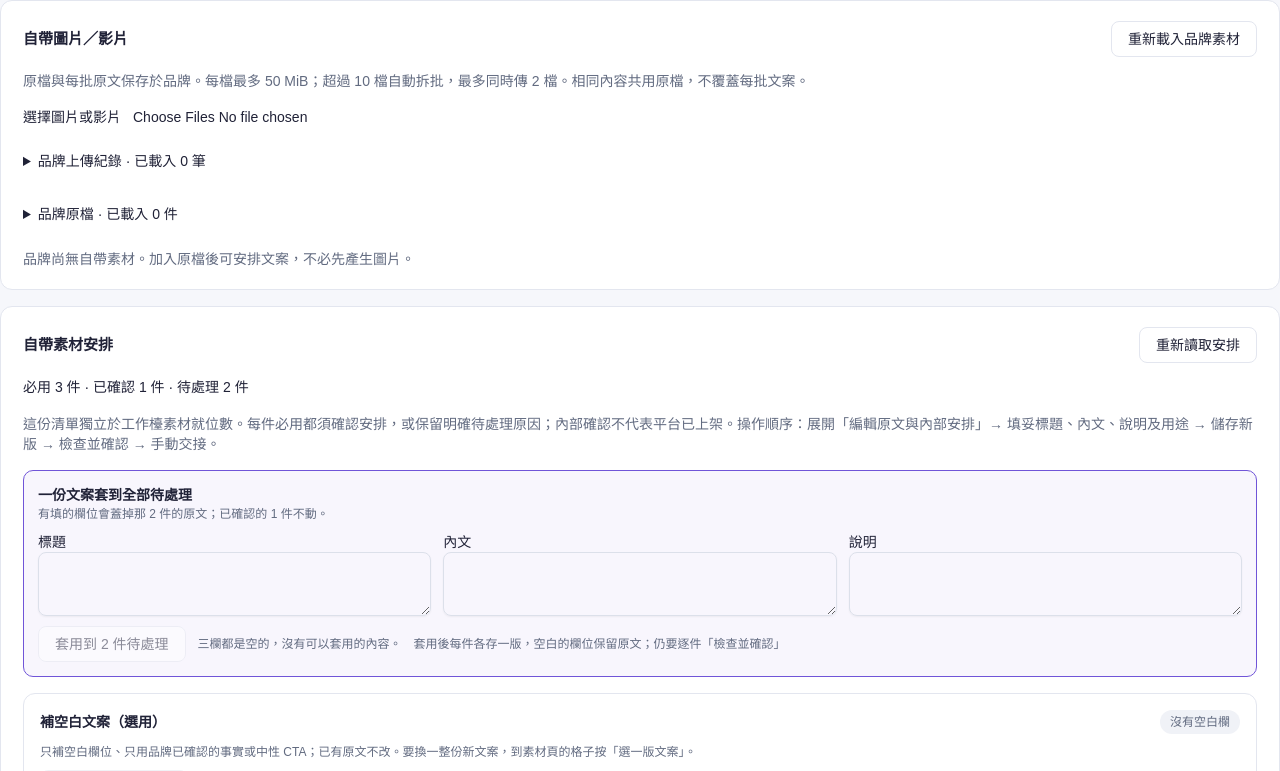
placement and evidence UI › applies one copy to every unconfirmed placement, never to a confirmed one, and reports the count
Check: the text "有填的欄位會蓋掉那 2 件的原文；已確認的 1 件不動。" is shown, box [38,507,329,521]
Check: the button "套用到 2 件待處理" is disabled, box [38,626,186,662]
In the text box named "套用標題": (235, 584) [38,552,431,616], type "統一標題"
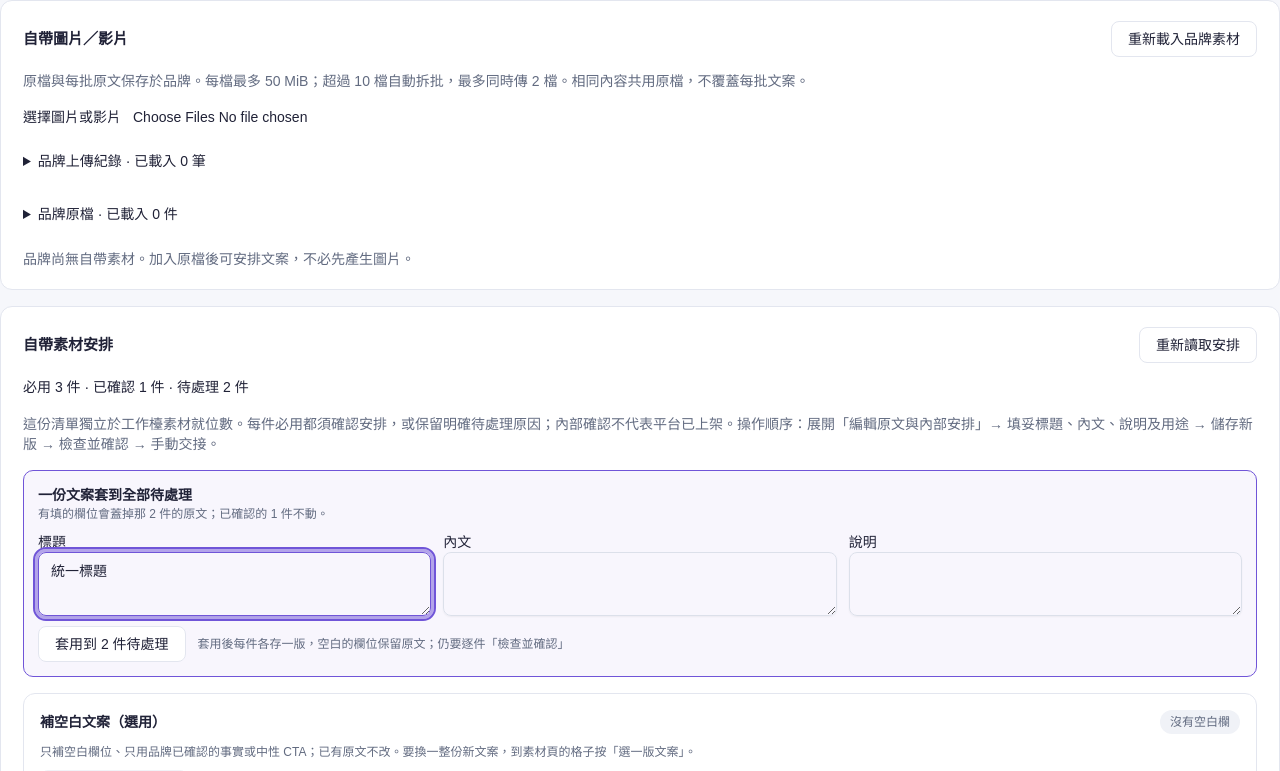
Click the button "套用到 2 件待處理": (112, 644) [38,626,186,662]
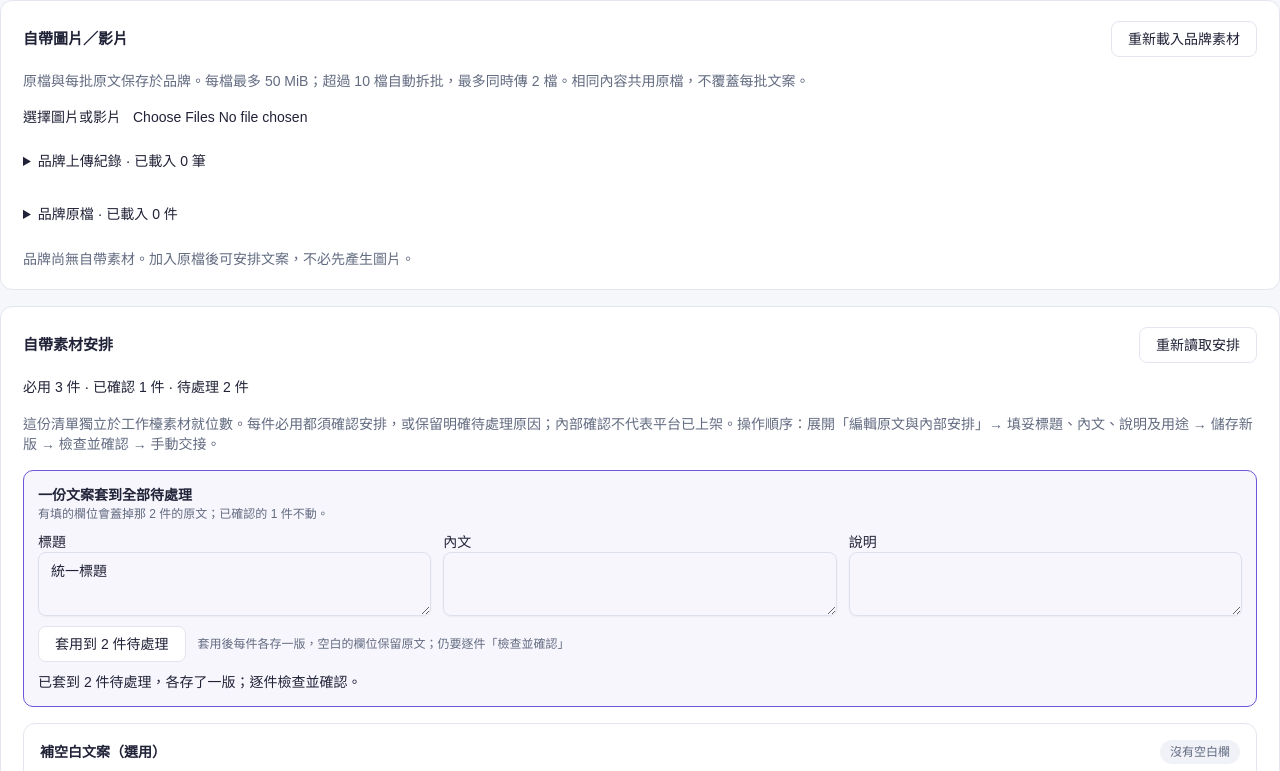
Check: the text "已套到 2 件待處理，各存了一版；逐件檢查並確認。" is shown, box [38,674,362,690]
